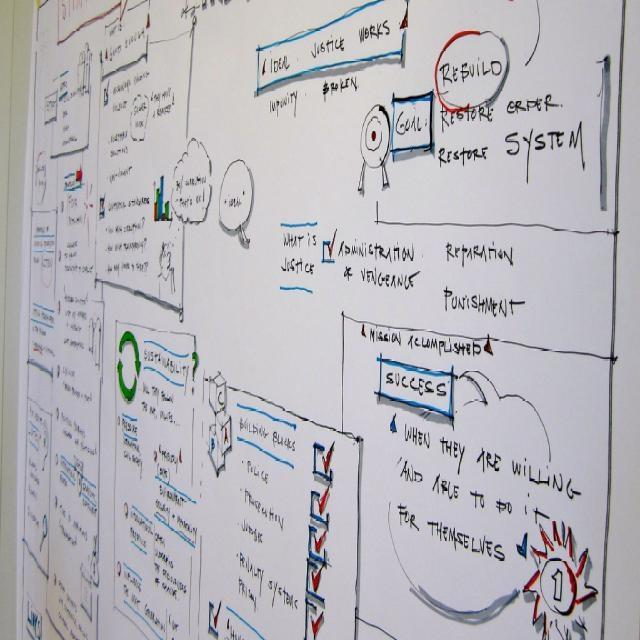Whiteboard: (14, 0, 639, 639)
